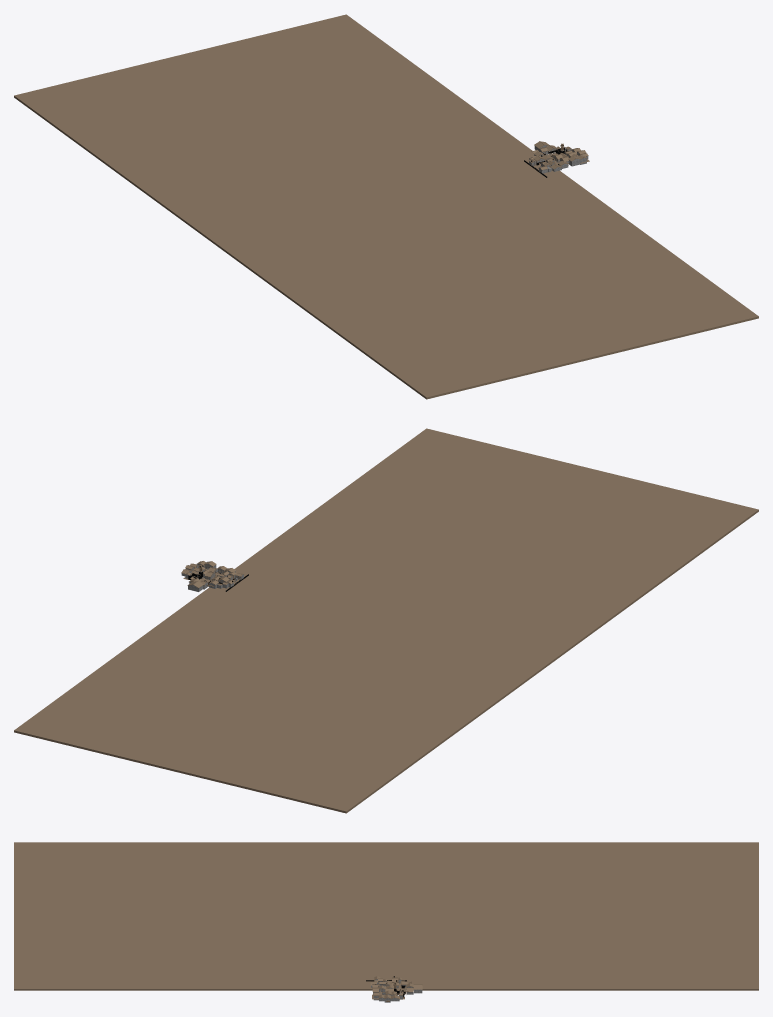
Rendered from Subzero.obj.
3 views of the same model, one above another, from view 1: azimuth 30°, elevation 25°; view 2: azimuth 150°, elevation 25°; view 3: azimuth 270°, elevation 25° (orthographic). The views are drawn at different scales.
Size of the model in its own units: 5893 by 253 by 11525.
Materials: 771 (771 with a texture image).
